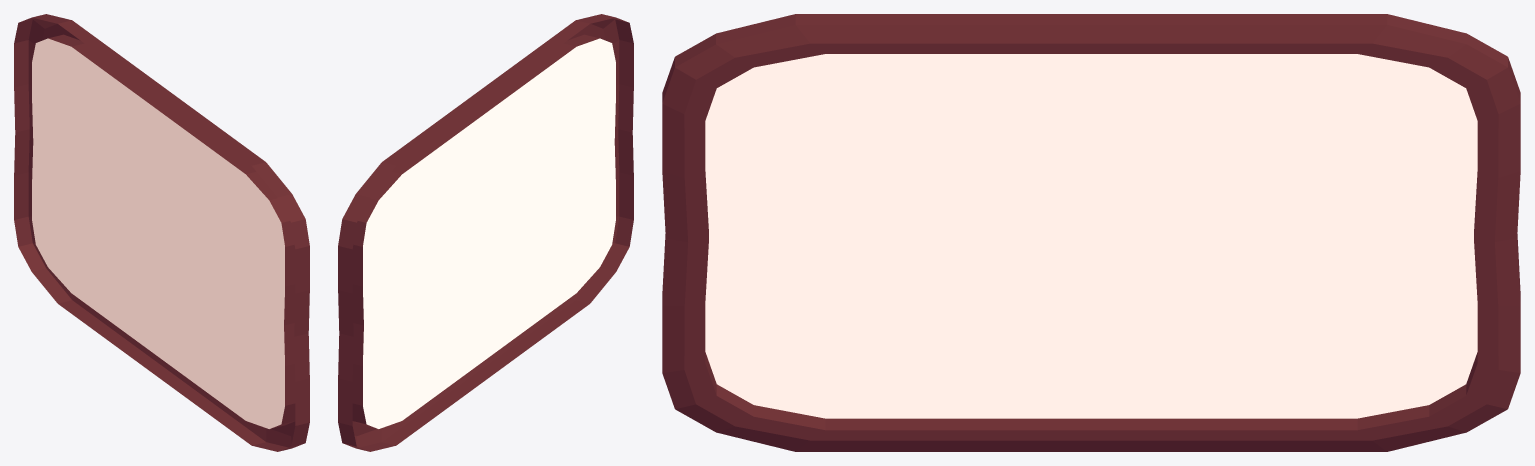
File: Screen.fbx
The picture shows the model from 3 angles, left to right: view 1: azimuth 30°, elevation 25°; view 2: azimuth 150°, elevation 25°; view 3: azimuth 270°, elevation 25°; orthographic projection. The views are drawn at different scales.
Parts seen in each view (by area): view 1: Screen; view 2: Screen; view 3: Screen.
Part boxes in pixels (x1=…): Screen: x1=14, y1=14, x2=309, y2=451; Screen: x1=338, y1=14, x2=633, y2=451; Screen: x1=662, y1=14, x2=1520, y2=451.
Size of the model in its own units: 30.43 by 417 by 759.
